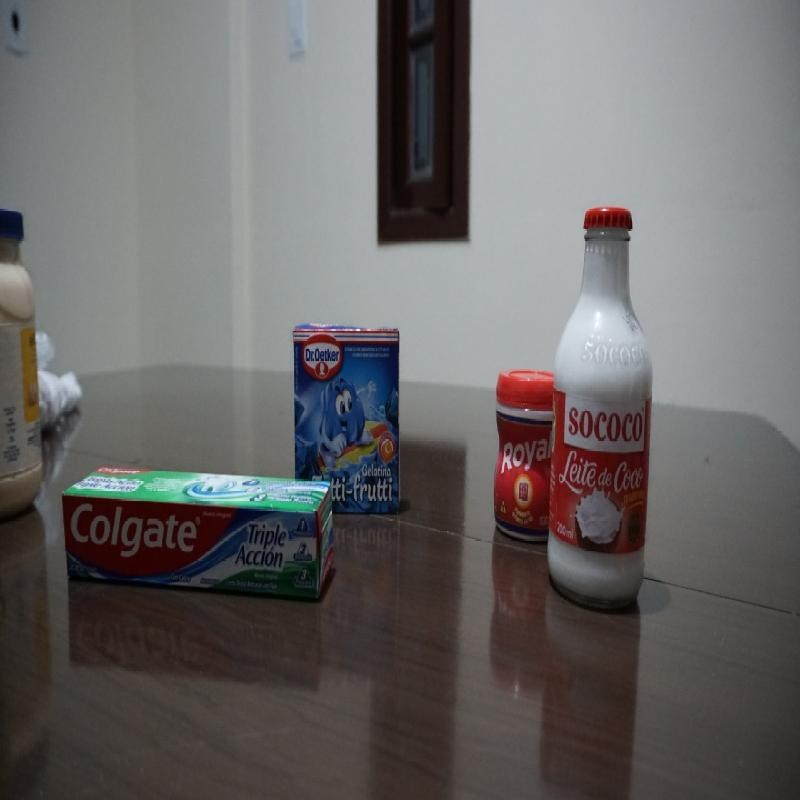Coconut Milk: (552, 208, 655, 604)
Gelatine: (292, 324, 401, 513)
Toothpaste: (64, 464, 335, 602)
Yeast: (493, 364, 556, 538)
